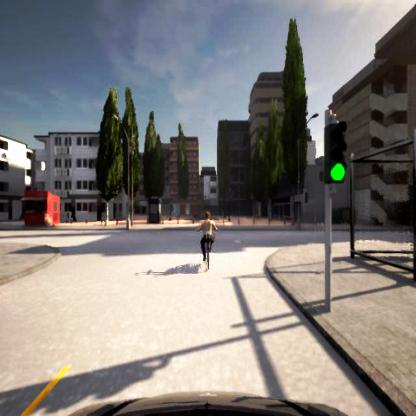bike: (196, 212, 220, 270)
